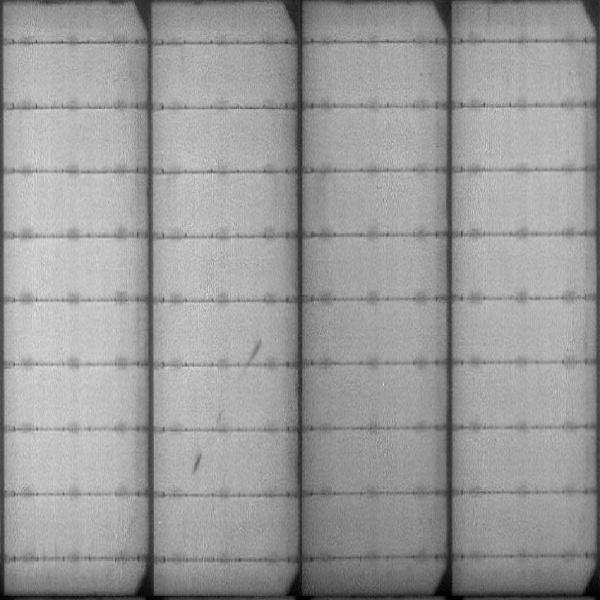scratch: (242, 336, 266, 363), (190, 447, 207, 480)
